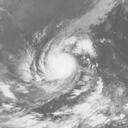cyclone: (23, 44, 81, 97)
